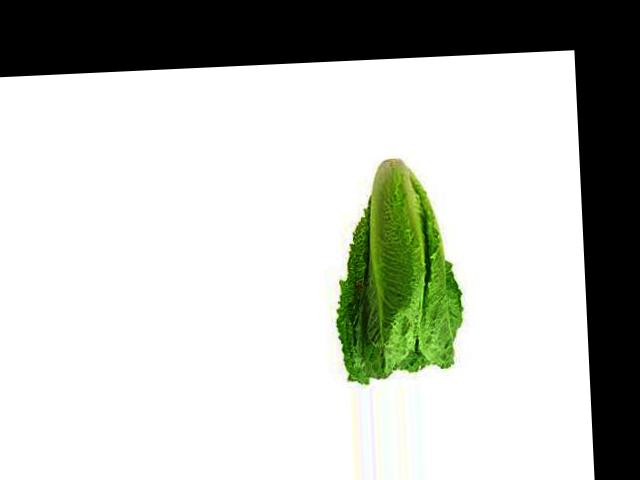lettuce: (330, 161, 452, 379)
